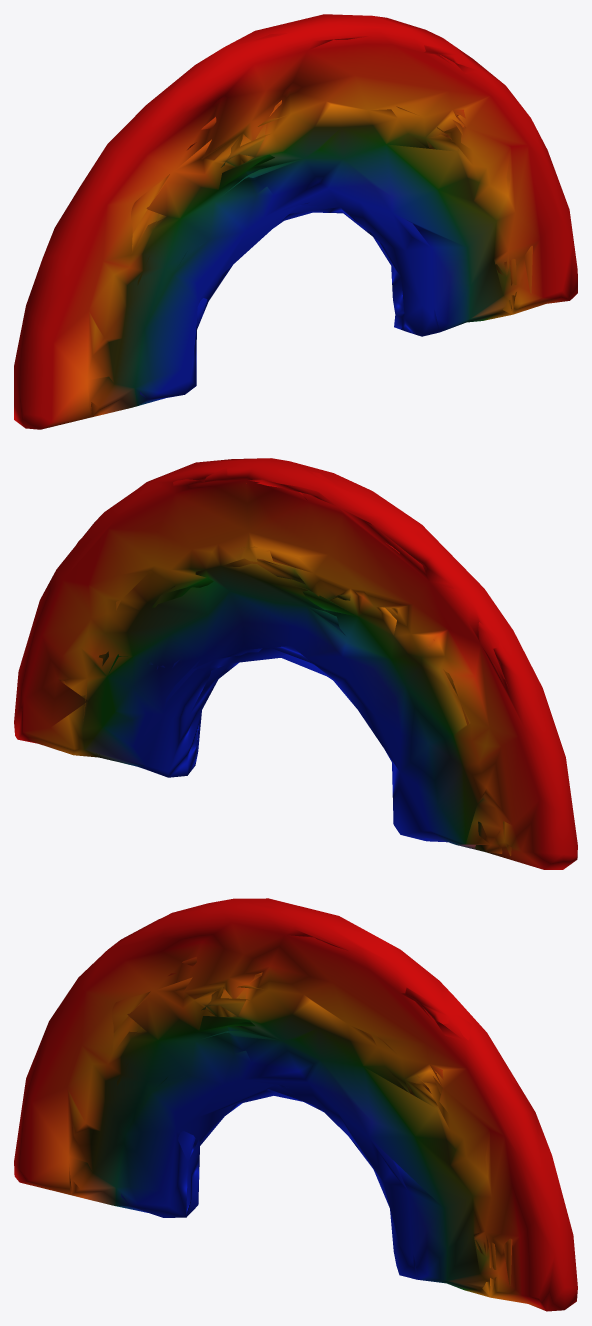
File: gen3d-rainbow-lod0.glb
The picture shows the model from 3 angles, top to bottom: view 1: azimuth 30°, elevation 25°; view 2: azimuth 150°, elevation 25°; view 3: azimuth 330°, elevation 25°; orthographic projection.
Parts seen in each view (by area): view 1: part_0; view 2: part_0; view 3: part_0.
Boxes of the visible parts, <box> form: part_0: <box>14,14,577,429</box>; part_0: <box>14,458,577,869</box>; part_0: <box>14,898,577,1311</box>.
Size of the model in its own units: 1.74 by 0.9977 by 0.1309.
